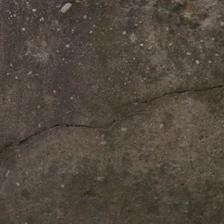Crack: (3, 110, 149, 153), (142, 82, 224, 103)
